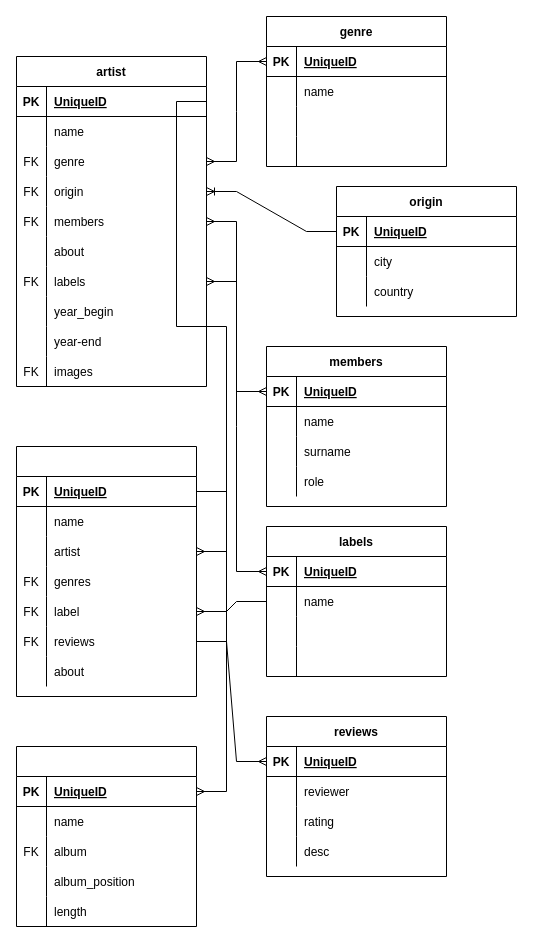
Some shapes in this 533 by 943 pixel diagram are drawn without their labels. The box of each missing label's shape, as (x1, y1, x2, y2) in pixels:
albums: (16, 446, 196, 696)
track: (16, 746, 196, 926)
